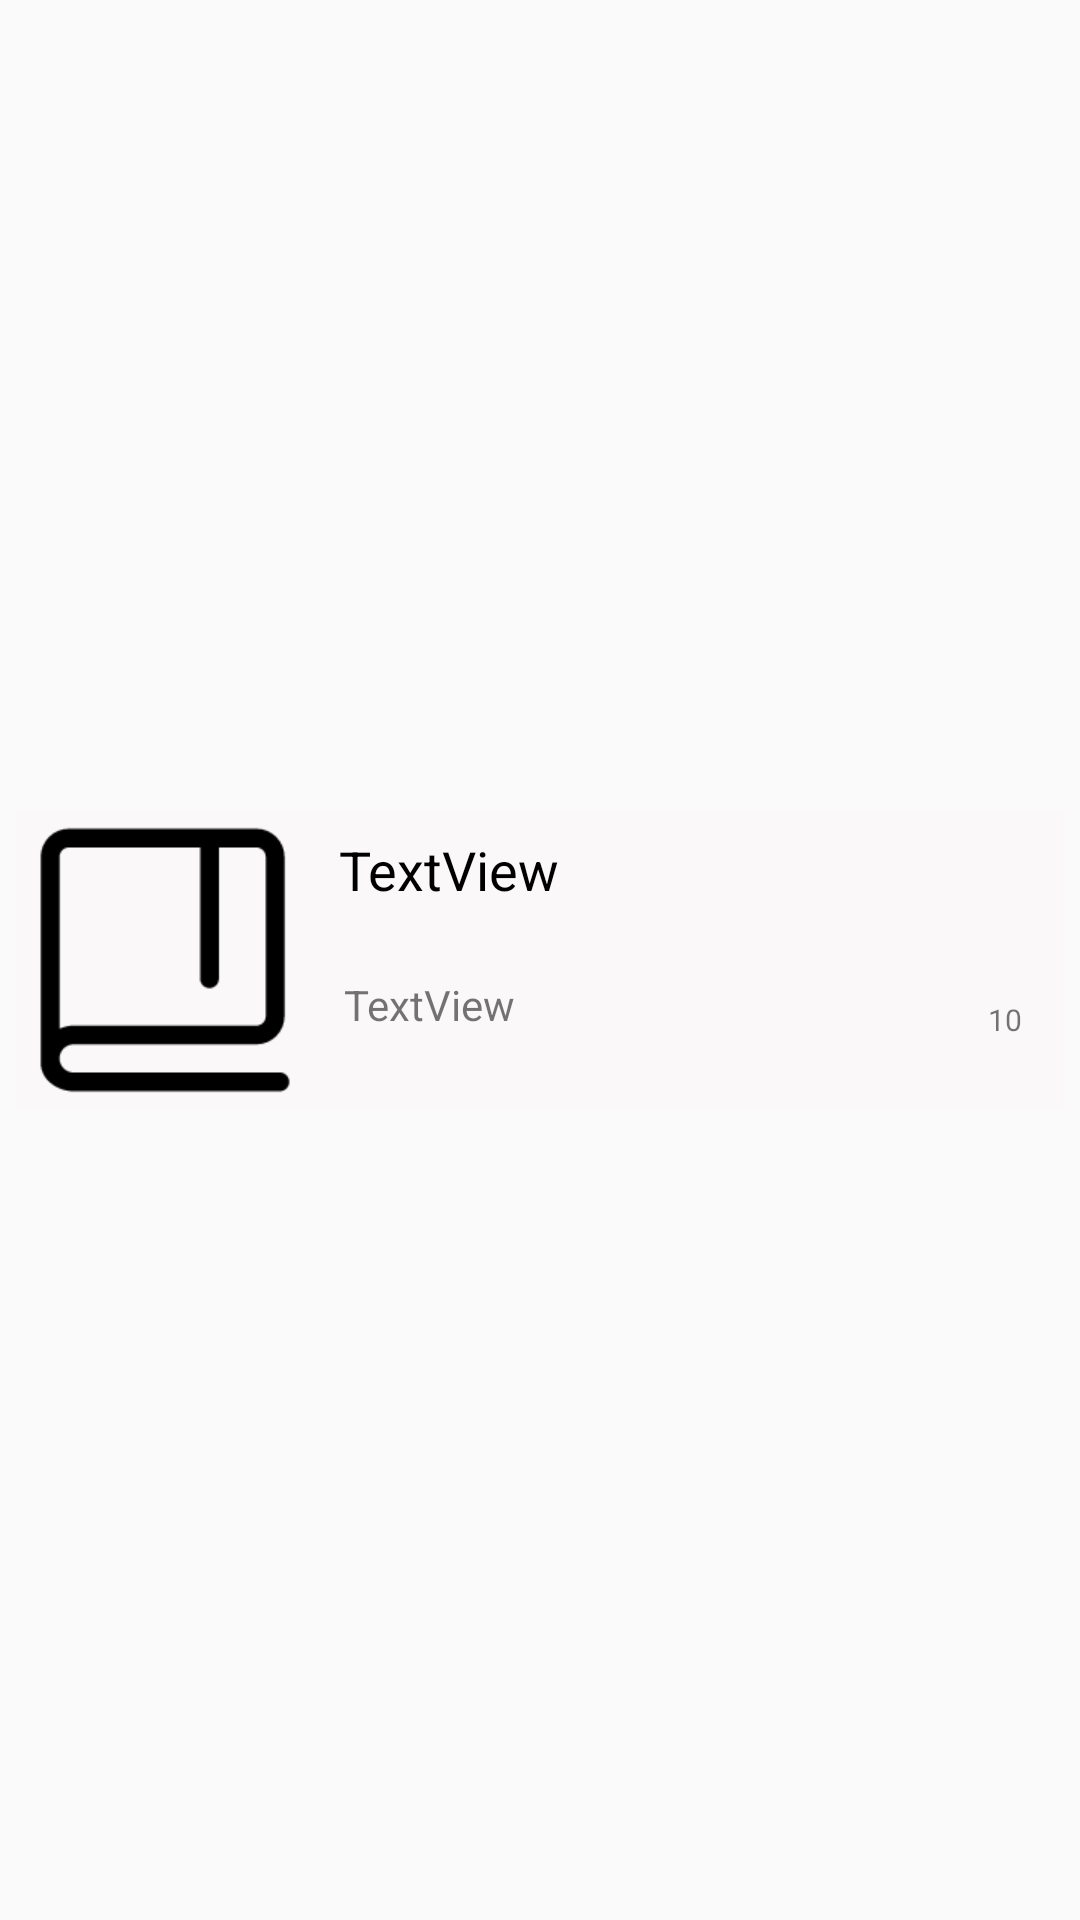

Where icons sit on this 1080 × 1920 app screen, as (x1, y1, x2, y2):
study: (40, 828, 290, 1092)
